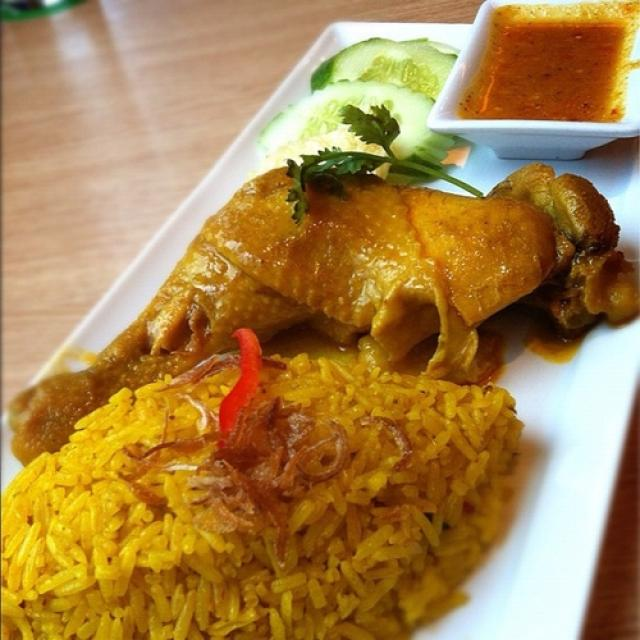米饭主食: (13, 26, 617, 624)
